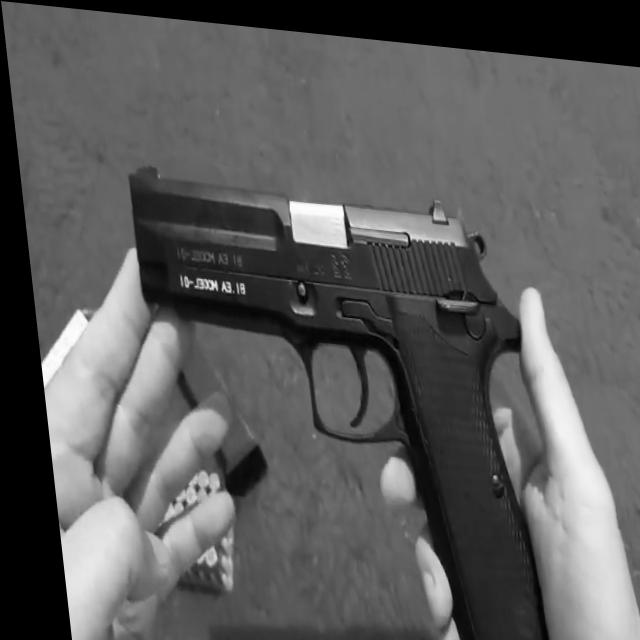handgun: (107, 138, 550, 640)
